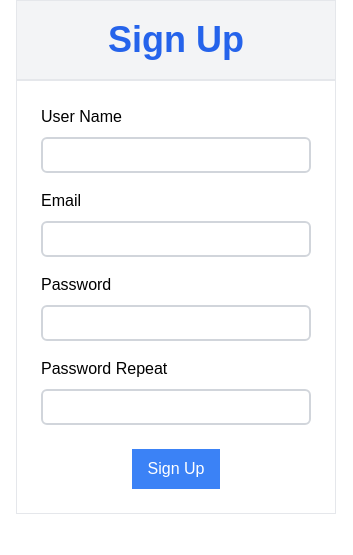
Test case: Sign Up Page › Interaction › display password is not allowed to be empty for password
Type "T3rl4lu@123" into the password field labelled "Password" at (176, 323), box top-left (41, 305), bottom-right (311, 341)
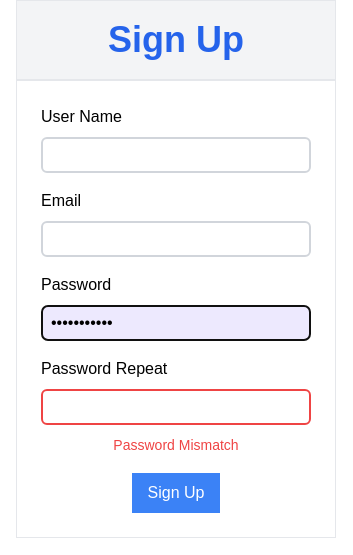
Type "T3rl4lu@123" into the password field labelled "Password Repeat" at (176, 407), box top-left (41, 389), bottom-right (311, 425)
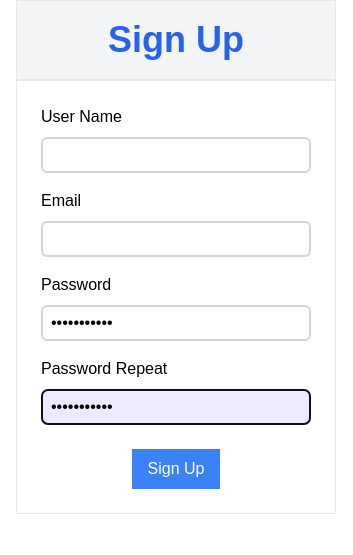
Click the button "Sign Up" at (176, 469), box top-left (132, 449), bottom-right (220, 489)
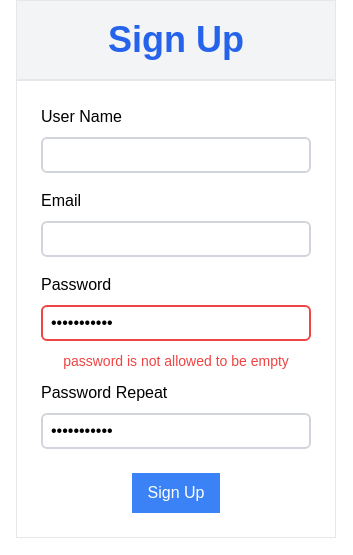
Check: the text "password is not allowed to be empty" is shown, box top-left (63, 353), bottom-right (289, 369)
